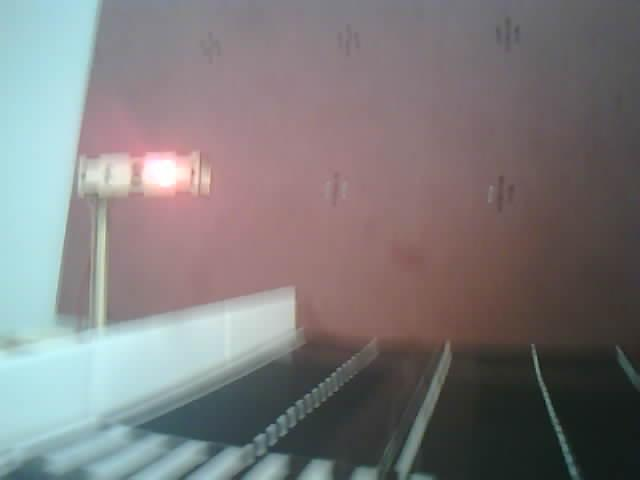crosswalk: (6, 413, 640, 475)
red: (63, 142, 221, 302)
